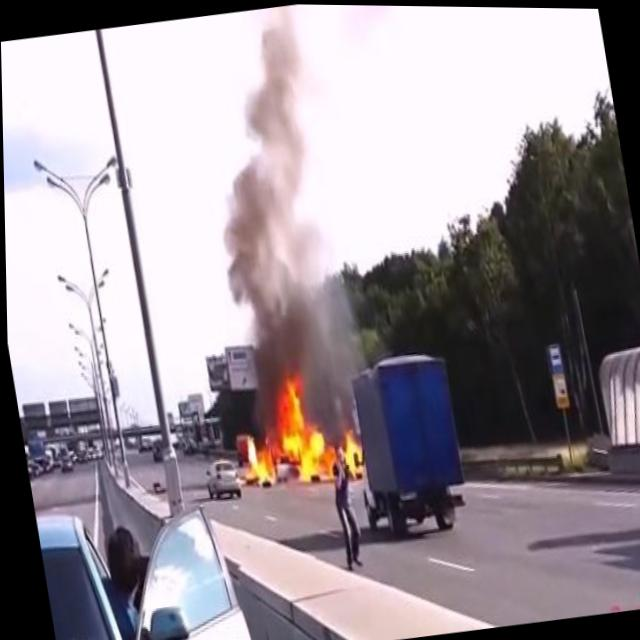fire: (227, 364, 364, 494)
